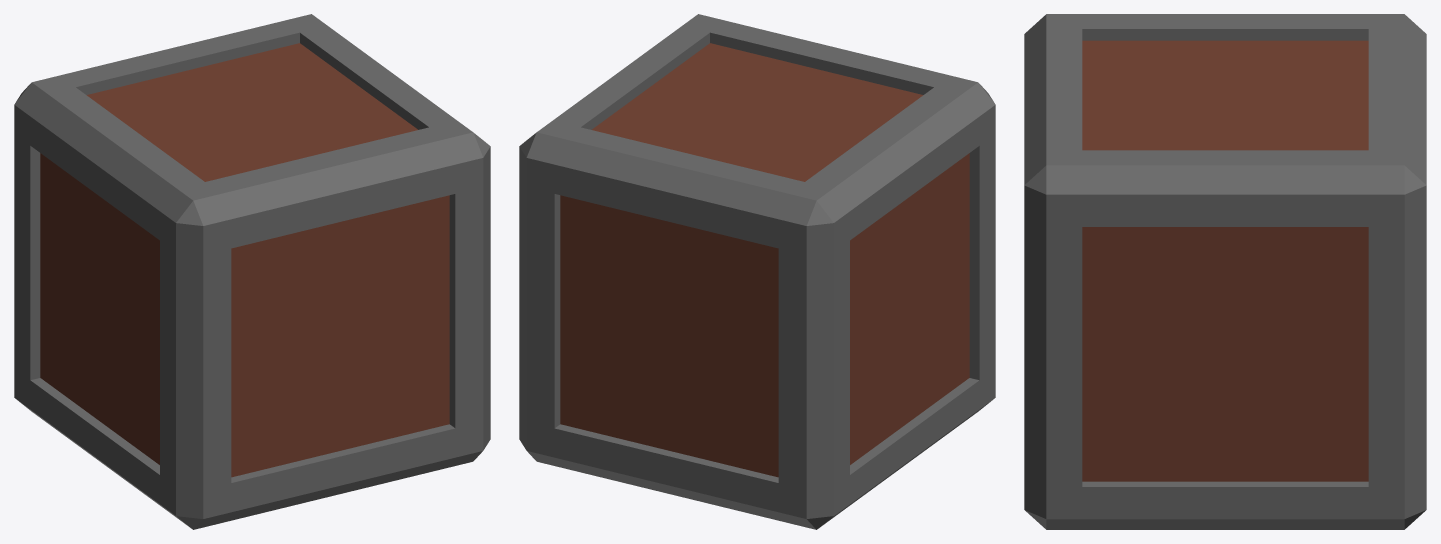
The model's file is crate.glb.
The picture shows the model from 3 angles, left to right: view 1: azimuth 30°, elevation 25°; view 2: azimuth 150°, elevation 25°; view 3: azimuth 270°, elevation 25°; orthographic projection. The views are drawn at different scales.
Parts seen in each view (by area): view 1: Cratecol; view 2: Cratecol; view 3: Cratecol.
Part boxes in pixels (<box>): Cratecol: <box>14,14,490,529</box>; Cratecol: <box>519,14,995,529</box>; Cratecol: <box>1024,14,1426,529</box>.
Size of the model in its own units: 0.7316 by 0.7316 by 0.7316.
